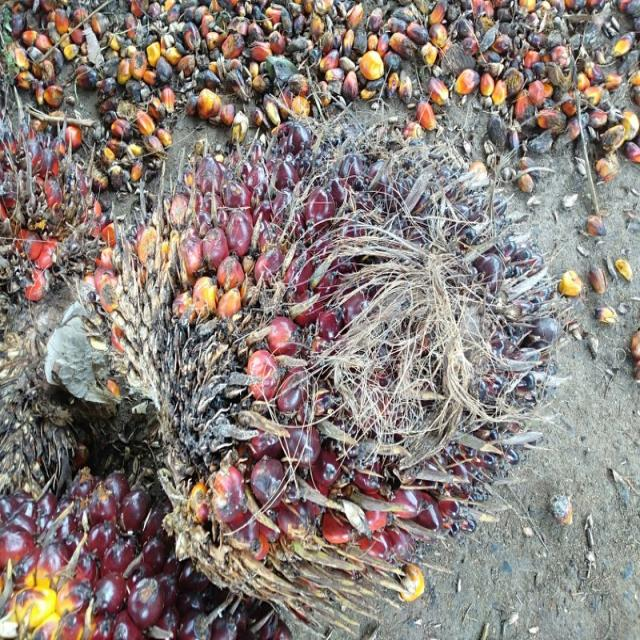fraksi 1: (107, 115, 558, 571)
